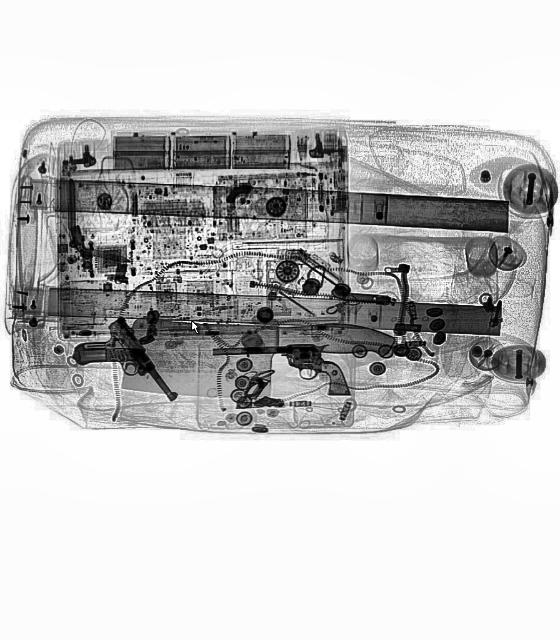Gun: (68, 310, 178, 436), (214, 341, 350, 397)
Knife: (121, 316, 395, 402)
